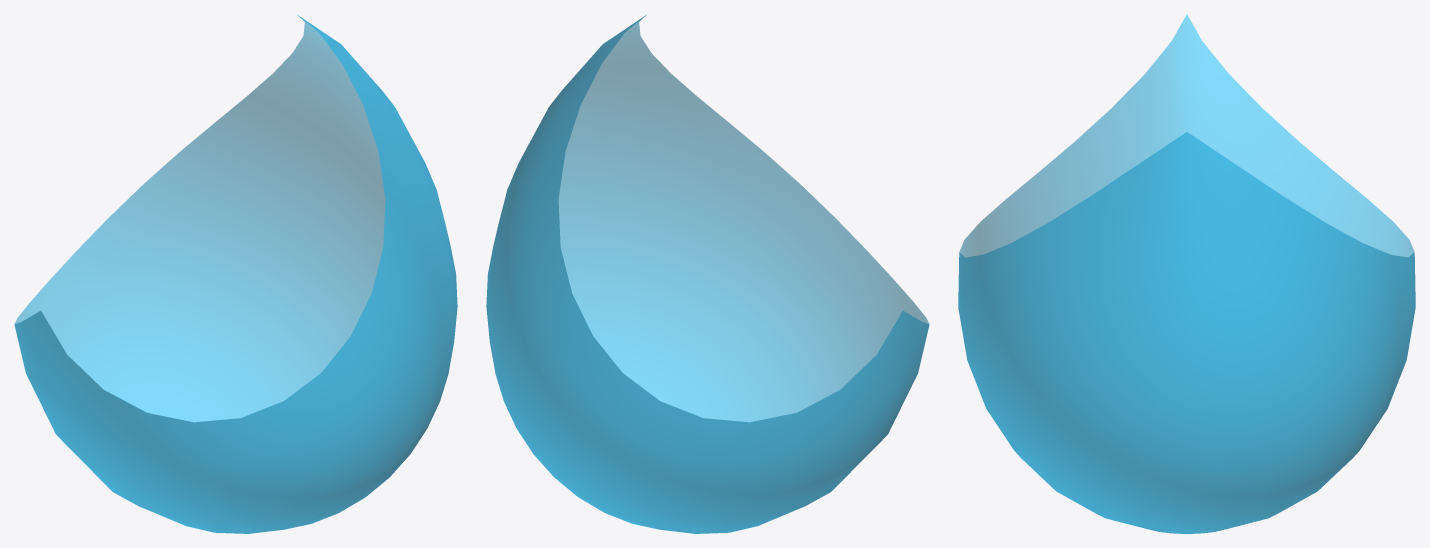
The model's file is Wisp B.dae.
3 renders of one model, left to right at view 1: azimuth 30°, elevation 25°; view 2: azimuth 150°, elevation 25°; view 3: azimuth 270°, elevation 25°, orthographic. The views are drawn at different scales.
Parts seen in each view (by area): view 1: Sphere.001; view 2: Sphere.001; view 3: Sphere.001.
Boxes of the visible parts, x1,y1,x2,y2 form: Sphere.001: [14, 15, 457, 533]; Sphere.001: [486, 15, 929, 533]; Sphere.001: [958, 15, 1415, 533].
Size of the model in its own units: 1.21 by 1.14 by 1.44.
